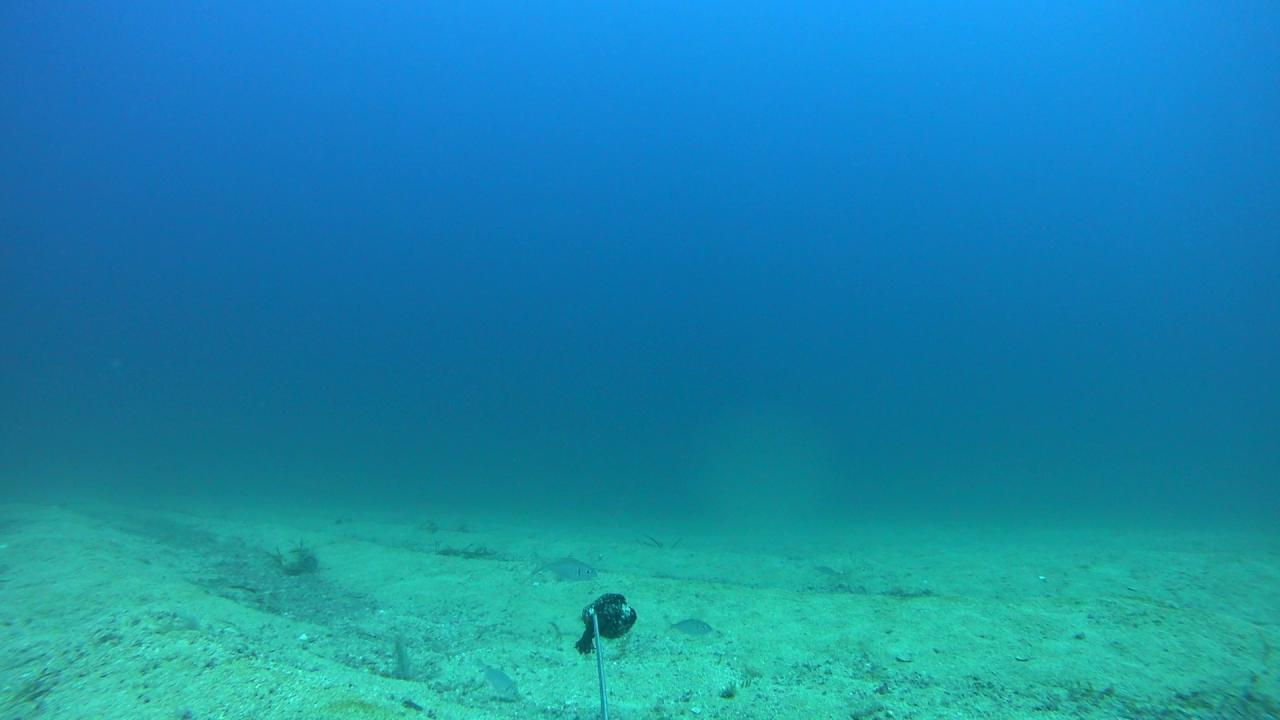pagellus: (473, 657, 525, 702), (529, 550, 597, 582), (662, 615, 712, 637)
